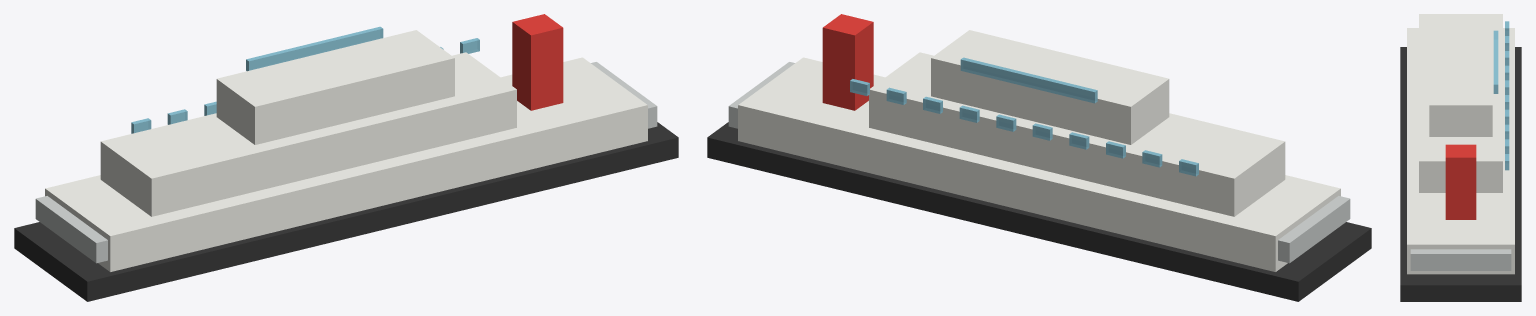
File: voxel-shanghai-cruise-ship.gltf
3 views of the same model, side by side, from view 1: azimuth 30°, elevation 25°; view 2: azimuth 150°, elevation 25°; view 3: azimuth 270°, elevation 25° (orthographic). The views are drawn at different scales.
Bounding box in the file's own units: 5.5 × 1.3 × 1.18.
